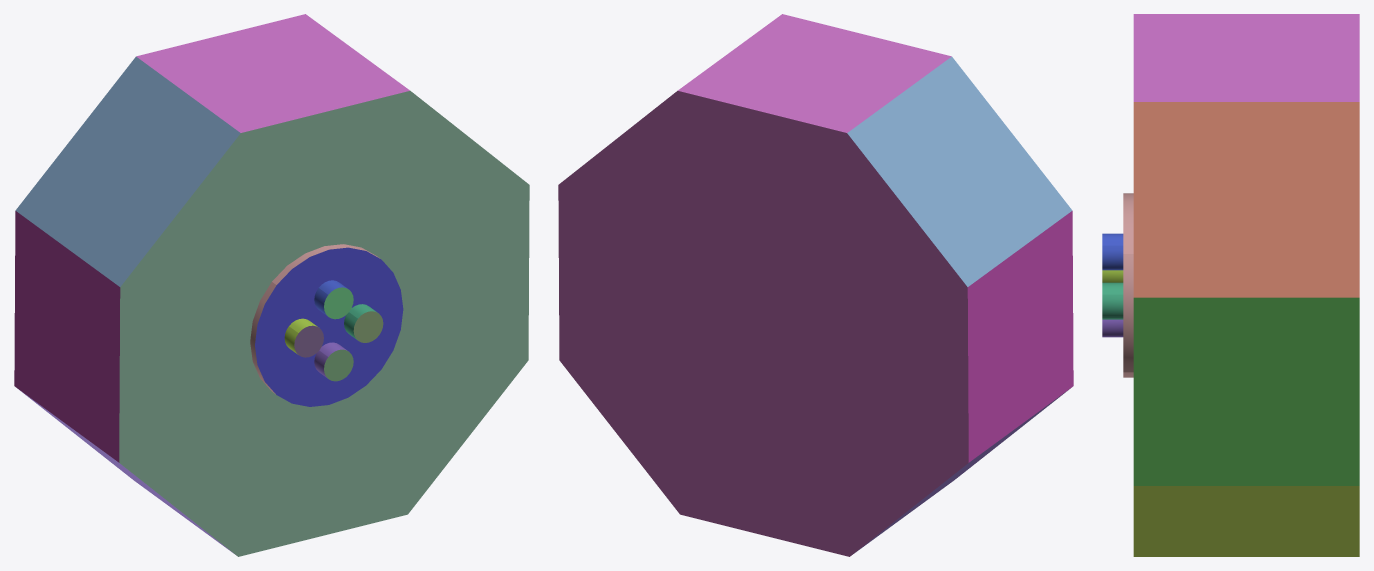
Rendered from module-stagger-01.glb.
The picture shows the model from 3 angles, left to right: view 1: azimuth 30°, elevation 25°; view 2: azimuth 150°, elevation 25°; view 3: azimuth 270°, elevation 25°; orthographic projection. The views are drawn at different scales.
Size of the model in its own units: 0.995 by 0.9831 by 0.5007.
